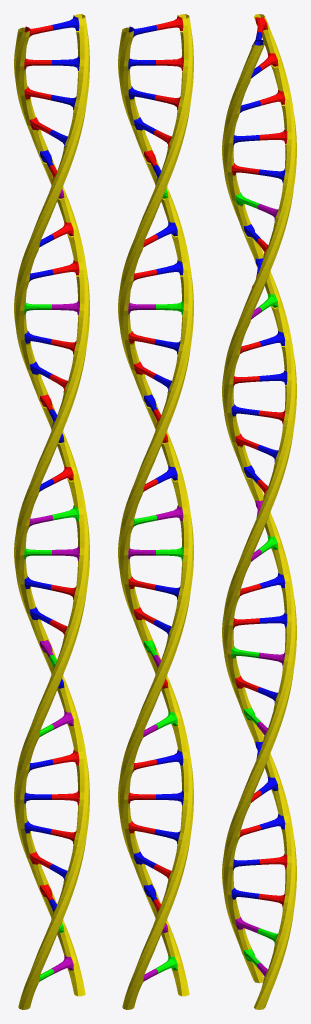
File: dna.glb
3 views of the same model, side by side, from view 1: azimuth 30°, elevation 25°; view 2: azimuth 210°, elevation 25°; view 3: azimuth 270°, elevation 25° (orthographic).
Visible parts, largest first — view 1: HaiBen, Phai.028, Trai.007, Phai.014, Trai.021, Phai.013, Phai.027, Trai.020, Trai.006, Phai.001, Phai.005, Trai.008 (+1 smaller); view 2: HaiBen, Trai.028, Phai.007, Phai.021, Trai.014, Trai.013, Phai.020, Trai.027, Phai.006, Trai.001, Phai.008, Trai.005 (+2 smaller); view 3: HaiBen, Trai.011, Phai.004, Trai.025, Phai.005, Phai.018, Trai.012, Phai.019, Trai.026.
Boxes of the visible parts, <box> form: HaiBen: <box>14,14,89,1009</box>; Phai.028: <box>51,15,79,30</box>; Trai.007: <box>52,749,79,765</box>; Phai.014: <box>52,505,79,520</box>; Trai.021: <box>51,259,79,275</box>; Phai.013: <box>52,546,79,560</box>; Phai.027: <box>52,56,79,70</box>; Trai.020: <box>52,301,79,315</box>; Trai.006: <box>52,790,79,805</box>; Phai.001: <box>51,955,73,973</box>; Phai.005: <box>24,820,51,834</box>; Trai.008: <box>51,711,73,729</box>; HaiBen: <box>118,14,193,1009</box>; Trai.028: <box>155,15,183,30</box>; Phai.007: <box>156,749,183,765</box>; Phai.021: <box>155,259,183,275</box>; Trai.014: <box>156,505,183,520</box>; Trai.013: <box>156,546,183,560</box>; Phai.020: <box>156,301,183,315</box>; Trai.027: <box>156,56,183,70</box>; Phai.006: <box>156,790,183,805</box>; Trai.001: <box>155,955,177,973</box>; Phai.008: <box>155,711,177,729</box>; Trai.005: <box>128,820,155,834</box>; HaiBen: <box>222,14,296,1009</box>; Trai.011: <box>259,613,287,627</box>; Phai.004: <box>259,854,287,868</box>; Trai.025: <box>259,129,287,144</box>; Phai.005: <box>259,814,285,829</box>; Phai.018: <box>259,370,287,385</box>; Trai.012: <box>259,572,285,588</box>; Phai.019: <box>259,331,285,346</box>; Trai.026: <box>259,90,285,105</box>.
Bounding box in the file's own units: 11.83 × 168 × 11.83.
